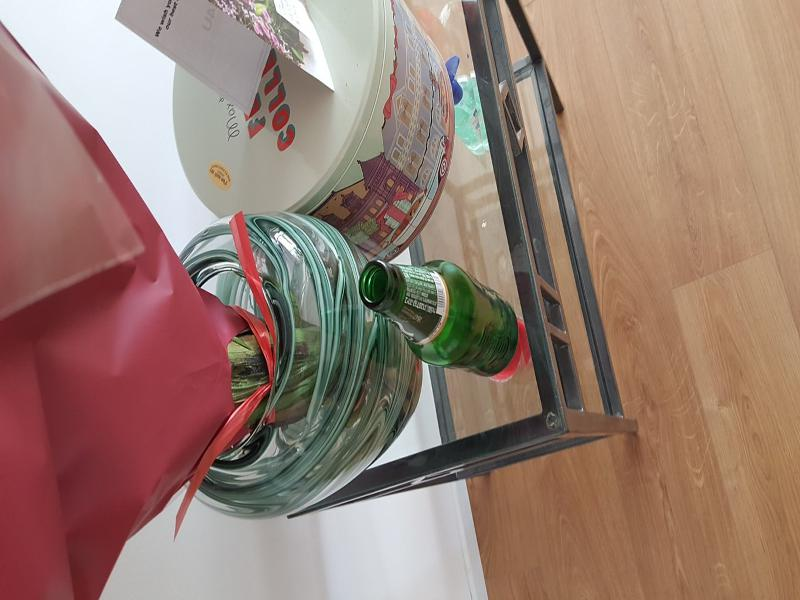Beer: (359, 259, 518, 377)
